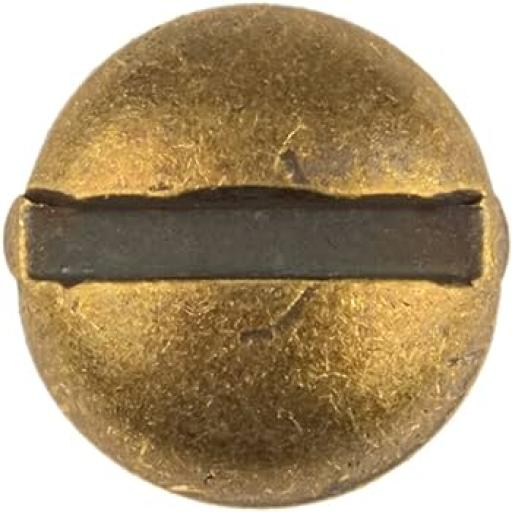Slotted: (17, 6, 505, 507)
